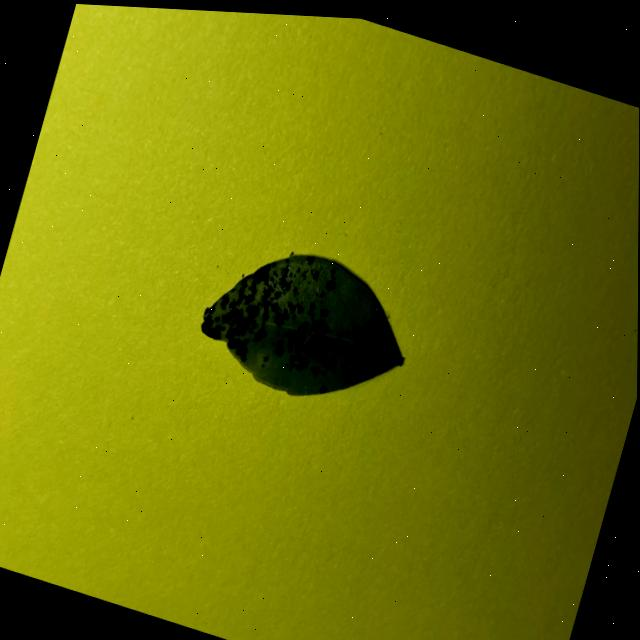sooty_mold: (200, 254, 402, 395)
